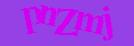Z: (53, 8, 78, 35)
j: (102, 6, 113, 40)
m: (73, 11, 103, 34)
n: (37, 5, 56, 26)
p: (20, 6, 42, 34)
